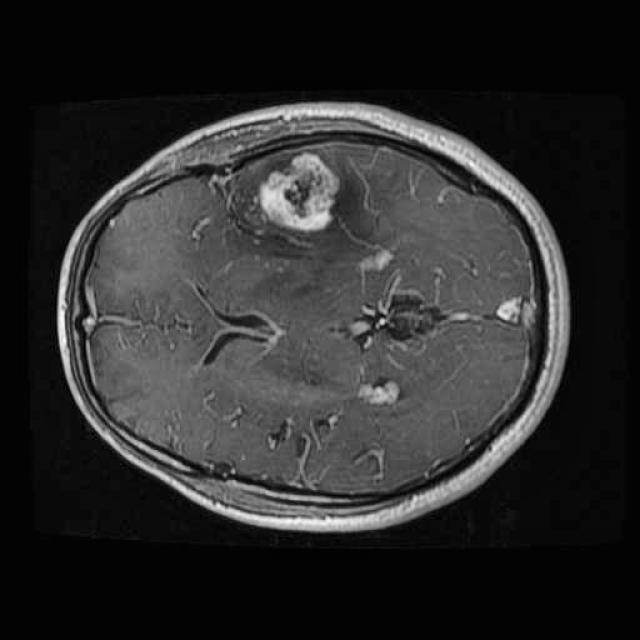Tumor: (247, 140, 343, 246)
